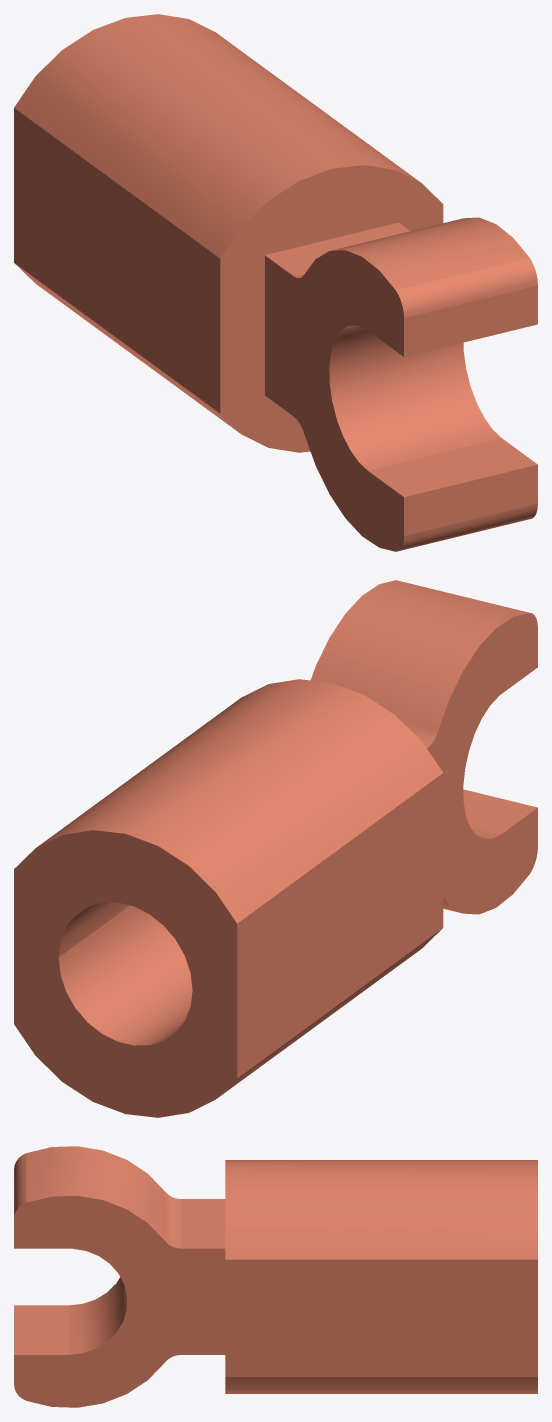
3 views of the same model, one above another, from view 1: azimuth 30°, elevation 25°; view 2: azimuth 150°, elevation 25°; view 3: azimuth 270°, elevation 25° (orthographic). The views are drawn at different scales.
Visible parts, largest first — view 1: [pivoted]; view 2: [pivoted]; view 3: [pivoted].
Boxes of the visible parts, left/top/right/bottom form: [pivoted]: left=14, top=14, right=537, bottom=551; [pivoted]: left=14, top=580, right=537, bottom=1117; [pivoted]: left=14, top=1146, right=537, bottom=1407.
Size of the model in its own units: 0.5 by 0.6 by 1.34.
